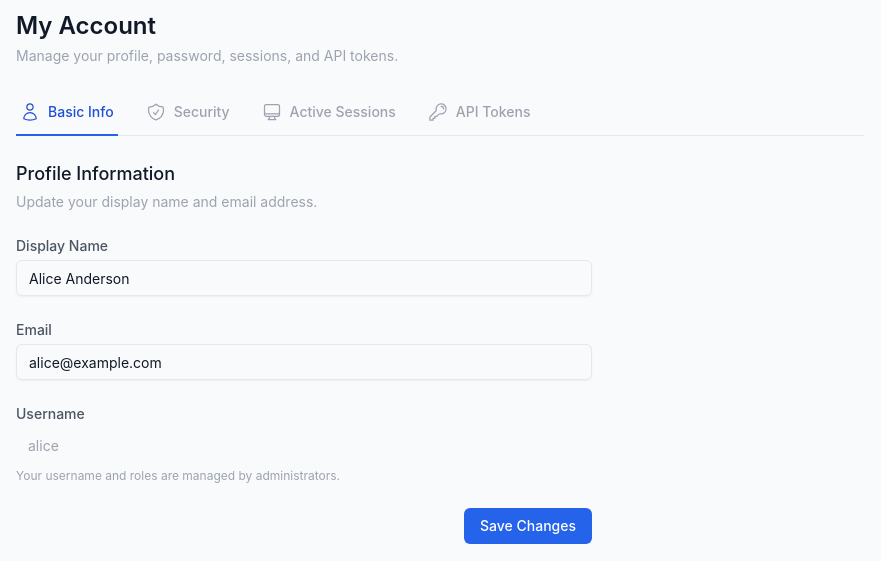
ProfilePage — Active Sessions tab › shows an error message if sessions fail to load
The width and height of the screenshot is (881, 561).
Click the button "Active Sessions" at {"x": 329, "y": 113}, box x1=258 y1=90 x2=400 y2=136
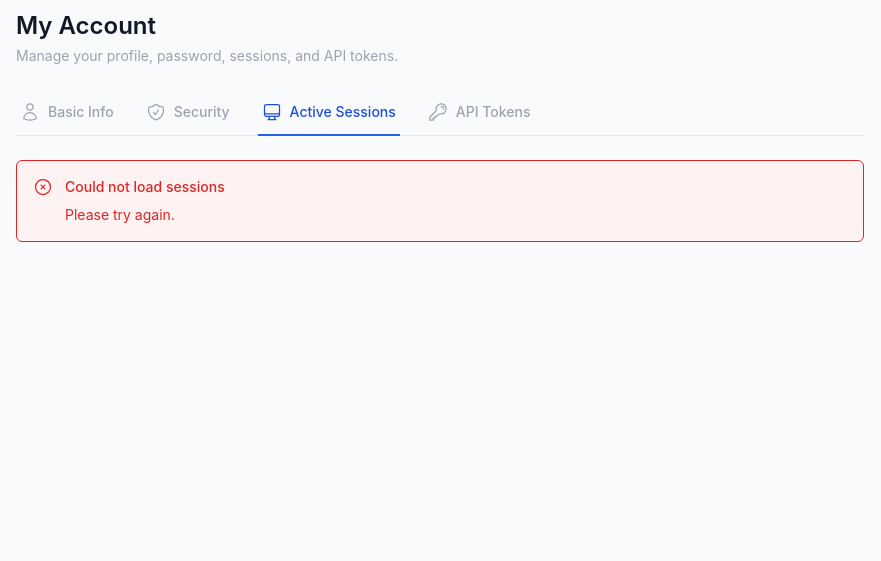
expect the heading "Could not load sessions" is shown: met, box x1=65 y1=178 x2=225 y2=195
